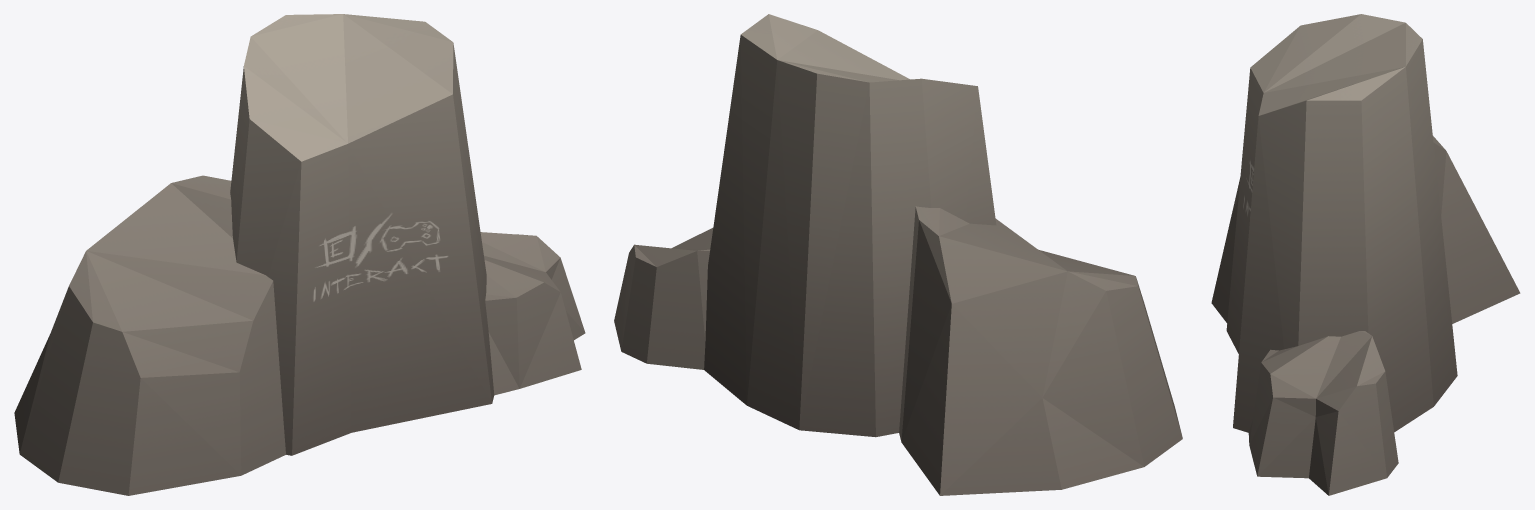
Rendered from Interact_tuto.fbx.
The picture shows the model from 3 angles, left to right: view 1: azimuth 30°, elevation 25°; view 2: azimuth 150°, elevation 25°; view 3: azimuth 270°, elevation 25°; orthographic projection. The views are drawn at different scales.
Parts seen in each view (by area): view 1: Tutorial_Stein_Interact; view 2: Tutorial_Stein_Interact; view 3: Tutorial_Stein_Interact.
Part boxes in pixels (bbox=[...]): Tutorial_Stein_Interact: bbox=[14, 14, 585, 495]; Tutorial_Stein_Interact: bbox=[614, 14, 1182, 495]; Tutorial_Stein_Interact: bbox=[1211, 14, 1520, 495].
Size of the model in its own units: 373 by 224 by 186.
